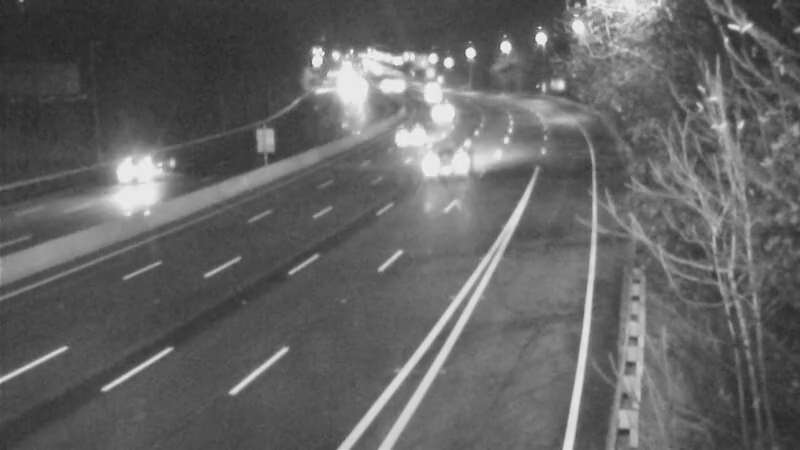vehicle: (402, 128, 482, 208), (87, 136, 167, 216), (375, 60, 425, 110), (405, 69, 455, 119), (418, 85, 468, 135), (386, 106, 436, 156)
